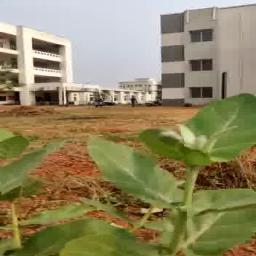Calotropis: (193, 190, 218, 256), (210, 101, 239, 157), (226, 189, 254, 244), (103, 228, 160, 255), (2, 131, 22, 198), (14, 203, 98, 218), (163, 209, 188, 254), (70, 220, 100, 255), (185, 119, 207, 166), (118, 145, 134, 198), (93, 135, 113, 176), (28, 146, 44, 195), (166, 168, 186, 206), (240, 94, 255, 142), (36, 232, 66, 256), (147, 126, 171, 154), (145, 157, 158, 203), (169, 126, 182, 167), (1, 238, 32, 255)
